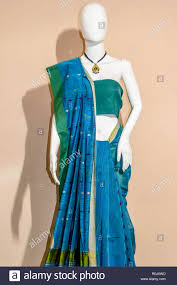person-like: (41, 1, 145, 268)
